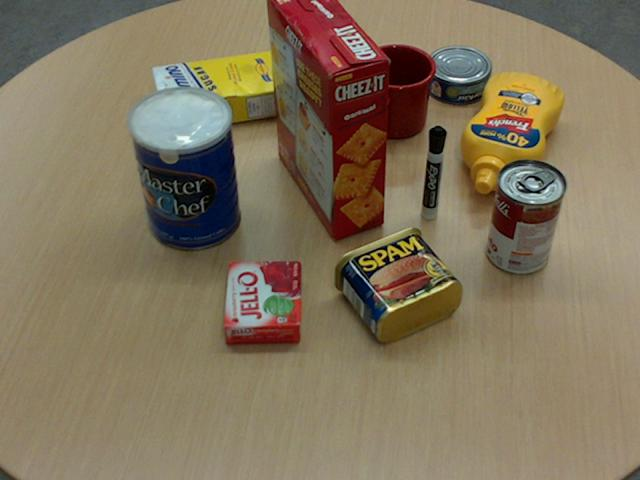cracker_box: (266, 0, 387, 239)
gelatin_box: (223, 260, 301, 342)
large_marker: (422, 126, 446, 219)
master_chef_can: (128, 86, 240, 250)
mug: (358, 43, 436, 138)
mustard_bottle: (460, 72, 562, 193)
potted_meat_can: (333, 225, 461, 341)
sugar_box: (151, 47, 303, 131)
tomato_soup_can: (486, 158, 566, 274)
tuna_fish_can: (423, 45, 491, 103)
